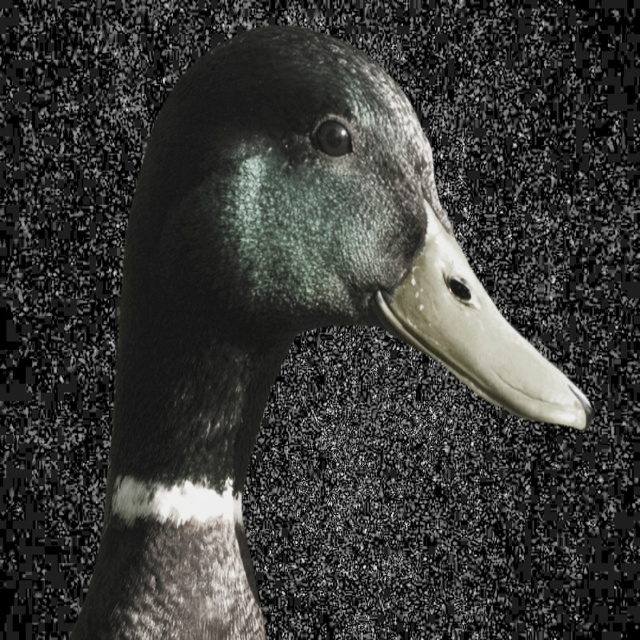Duck: (63, 52, 602, 595)
